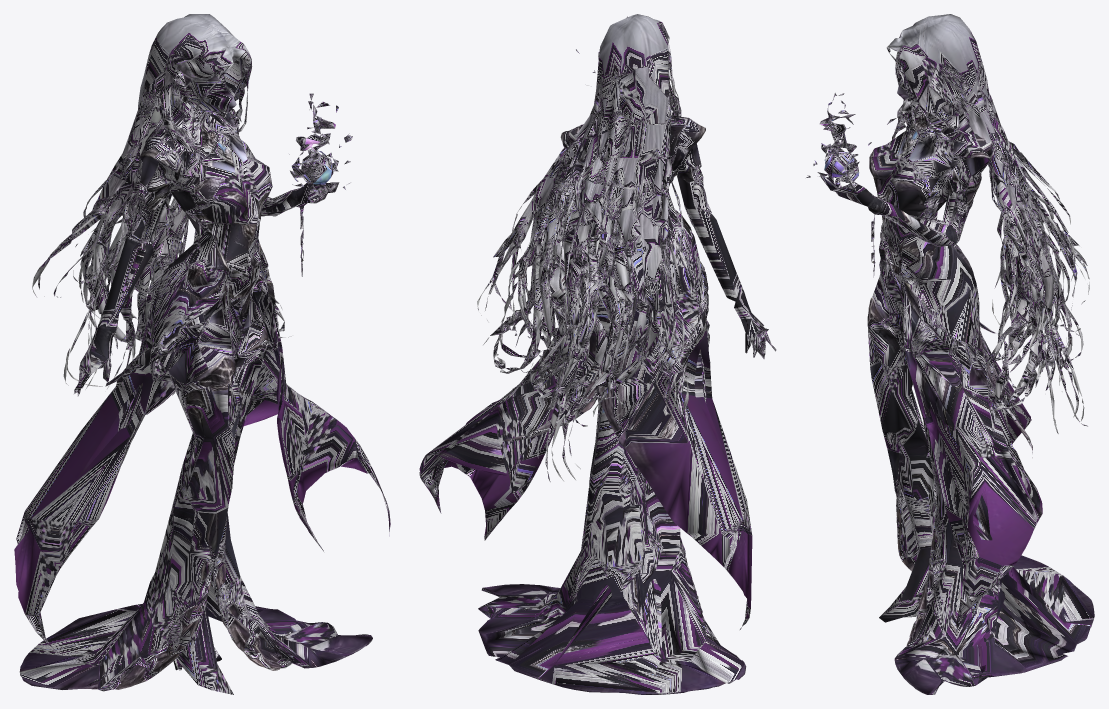
File: darkwitch.glb
3 views of the same model, side by side, from view 1: azimuth 30°, elevation 25°; view 2: azimuth 150°, elevation 25°; view 3: azimuth 270°, elevation 25° (orthographic). The views are drawn at different scales.
Bounding box in the file's own units: 1.07 × 1.9 × 0.8235.
Materials: 1 (1 with a texture image).
